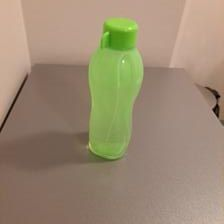bottle: (83, 15, 144, 160)
